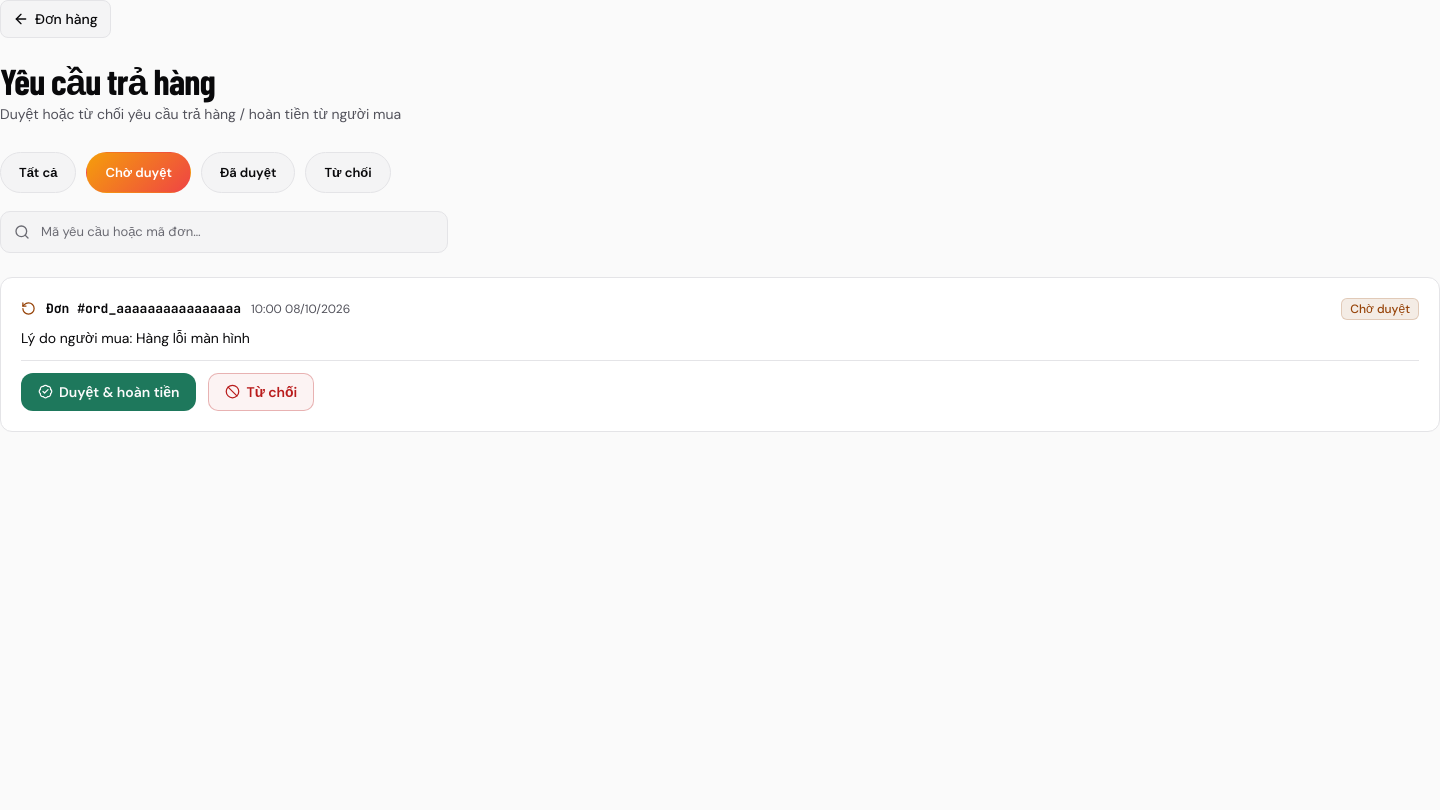
SellerReturnRequestsPage approve › asks before refunding and sends nothing when the seller backs out
This screenshot has width=1440, height=810.
Click the button "Duyệt & hoàn tiền": [109, 392] box [21,373,196,411]
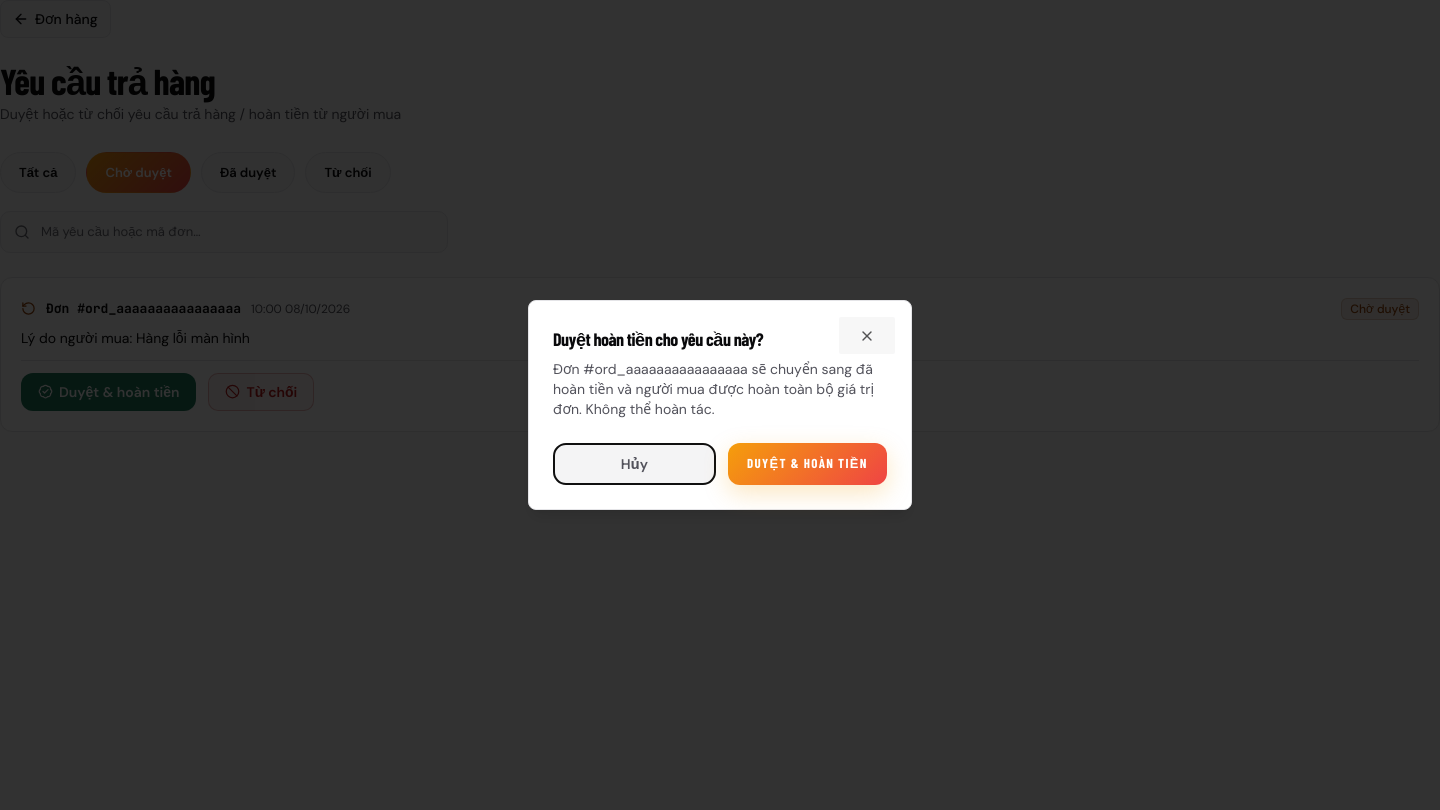
expect the heading "Duyệt hoàn tiền cho yêu cầu này?" is shown: met, box [553,328,763,350]
Click the button "Hủy": [634, 464] box [553,443,716,485]
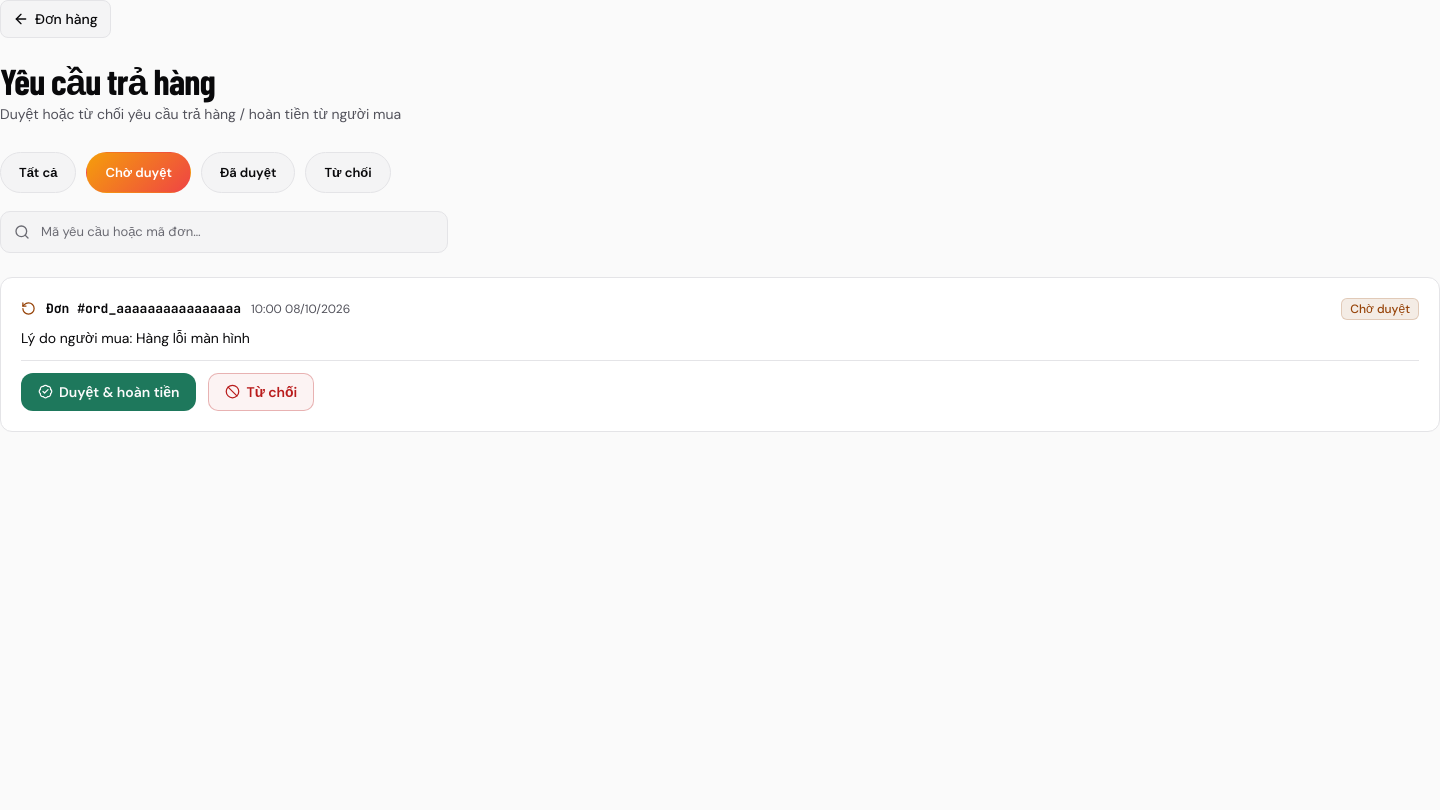
expect the dialog is gone: met
